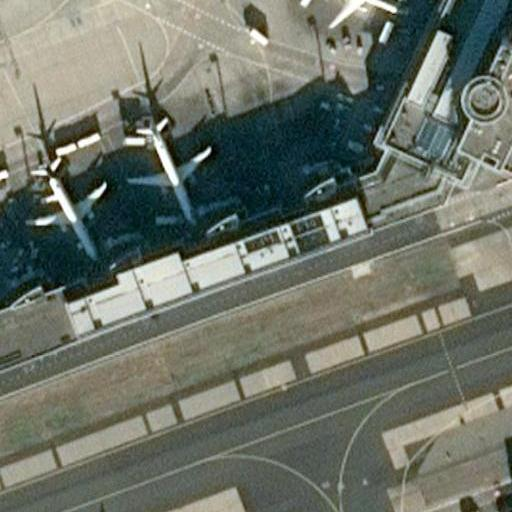Aircraft: (125, 109, 215, 216), (24, 162, 97, 263), (299, 0, 407, 35)
